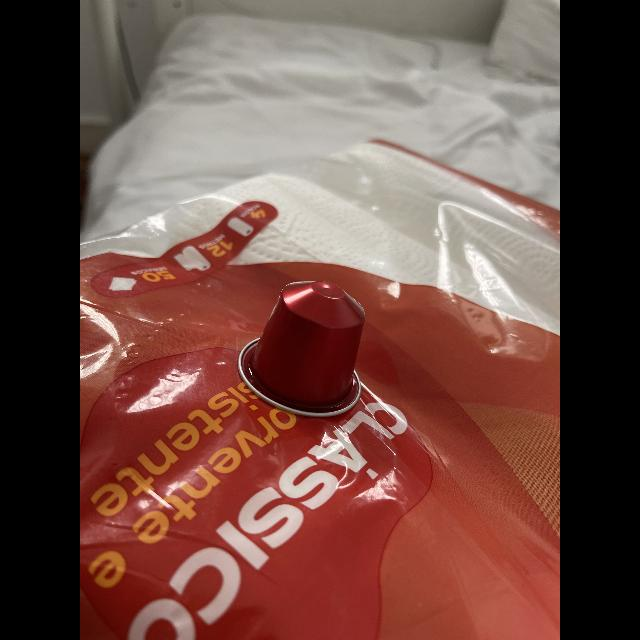intact_capsule: (226, 266, 386, 436)
